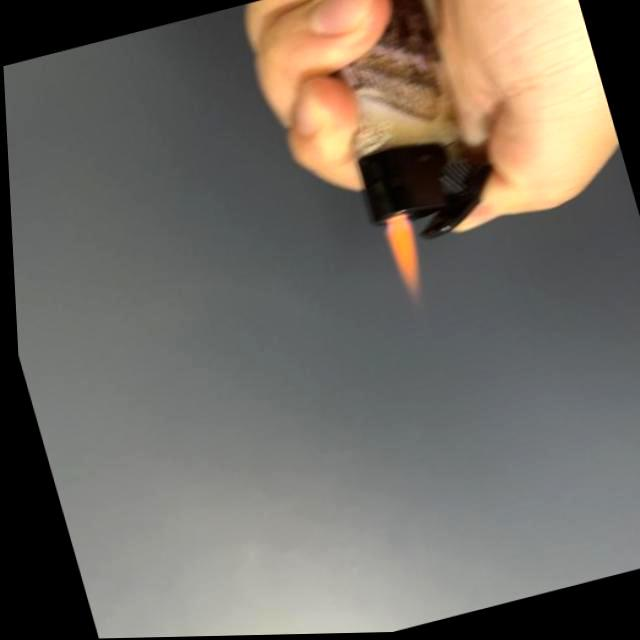fire: (378, 216, 432, 300)
